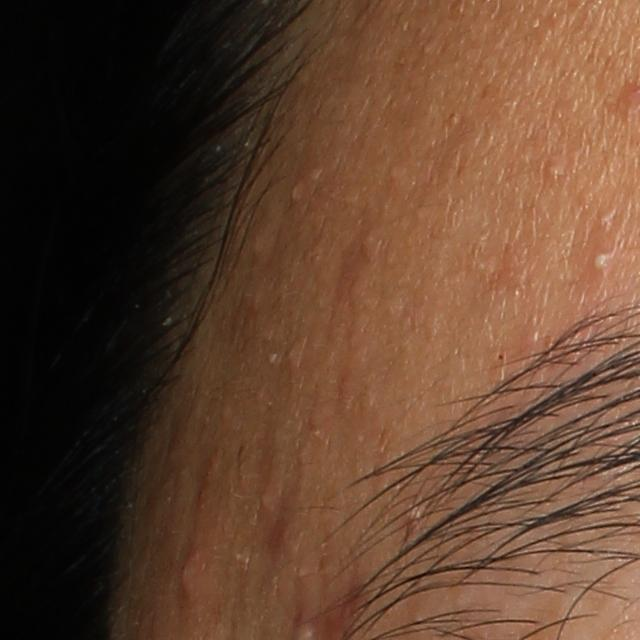comedo: (544, 159, 562, 182)
papule: (175, 551, 206, 606), (287, 178, 307, 200)
pustule: (583, 241, 618, 287)
